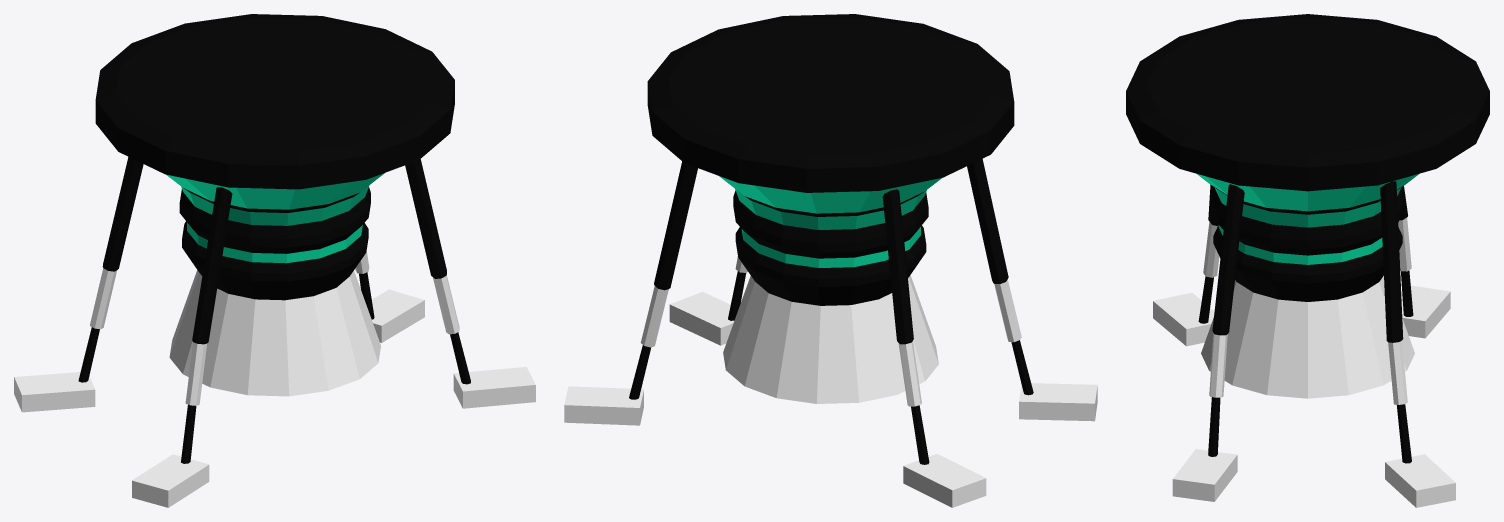
File: nauBaix.fbx
3 renders of one model, left to right at view 1: azimuth 30°, elevation 25°; view 2: azimuth 150°, elevation 25°; view 3: azimuth 270°, elevation 25°, orthographic.
Parts seen in each view (by area): view 1: PartSota; view 2: PartSota; view 3: PartSota.
Boxes of the visible parts, <box> form: PartSota: <box>14,14,535,507</box>; PartSota: <box>564,14,1097,507</box>; PartSota: <box>1126,14,1489,507</box>.
Bounding box in the file's own units: 260 × 196 × 200.
